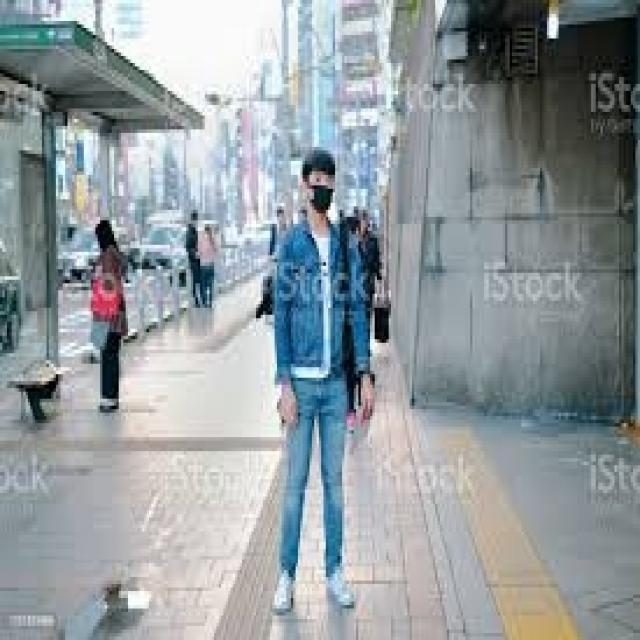walking: (269, 153, 362, 615), (80, 223, 129, 423), (181, 207, 202, 305), (197, 224, 221, 308)
